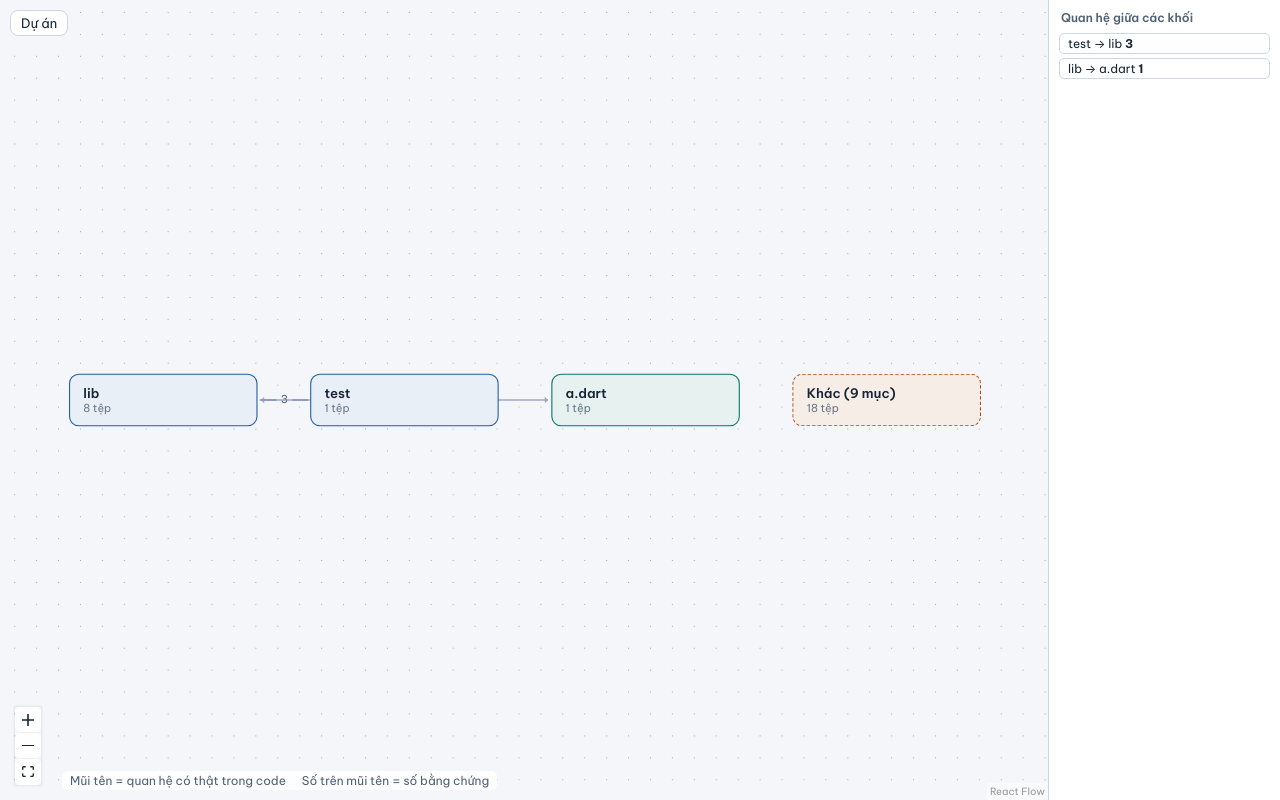
Test: ArchitectureCanvas › shows evidence errors inside the popover
The width and height of the screenshot is (1280, 800).
Click the button "test → lib 3": (1164, 44) [1059,33,1270,54]
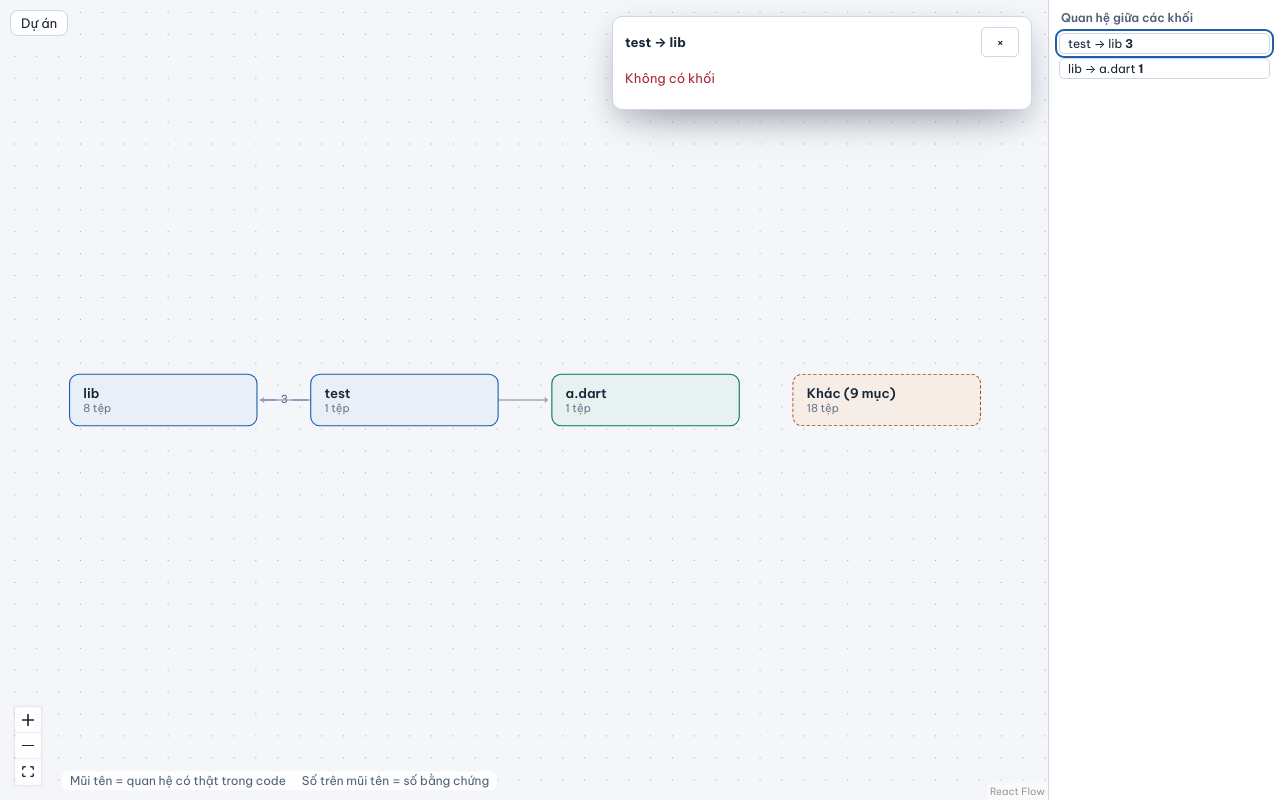
Expected: the message reads "Không có khối", [625,70,715,86]
